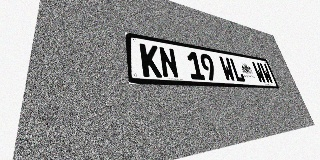1: (185, 51, 205, 80)
9: (199, 53, 218, 81)
K: (139, 43, 162, 78)
L: (229, 58, 246, 82)
N: (158, 46, 180, 79)
W: (218, 56, 236, 82), (251, 61, 267, 83), (259, 63, 274, 84)
